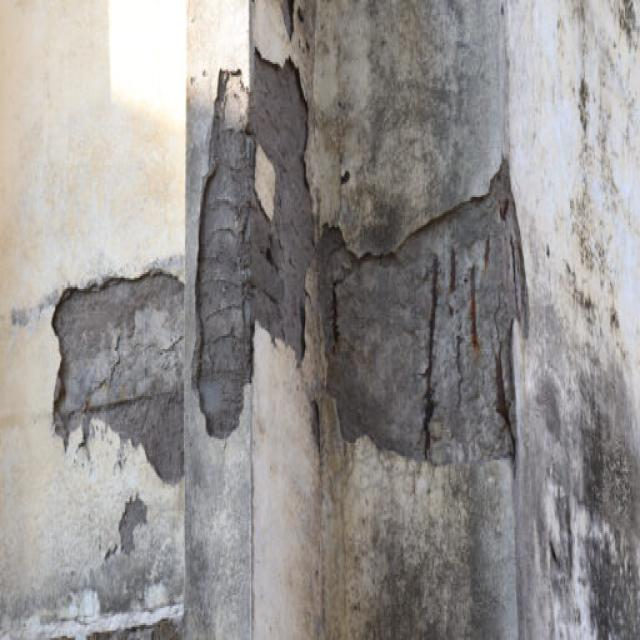spalling: (196, 48, 531, 467), (48, 269, 189, 487)
stain_mould: (472, 311, 639, 638)
